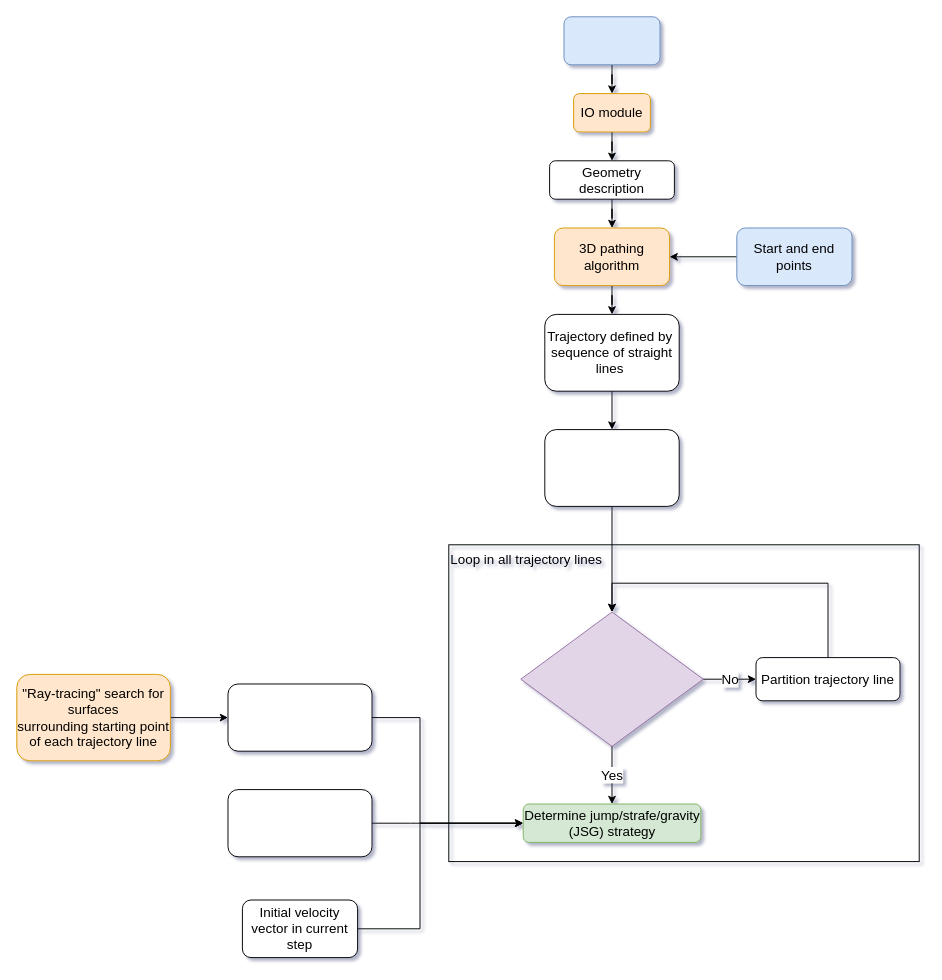
Some shapes in this 942 by 980 pixel diagram are drawn without their labels. The centre of each missing label's shape, as x and y in pixels:
"Continuous" Map: [611,40]
Availability of surfaces around starting point of each trajectory line: [299,717]
Can the current step be solved in a single jump?: [611,678]
Repositioning of points to consider character hitboxes: [611,467]
x, y and z components of trajectory line: [299,823]
